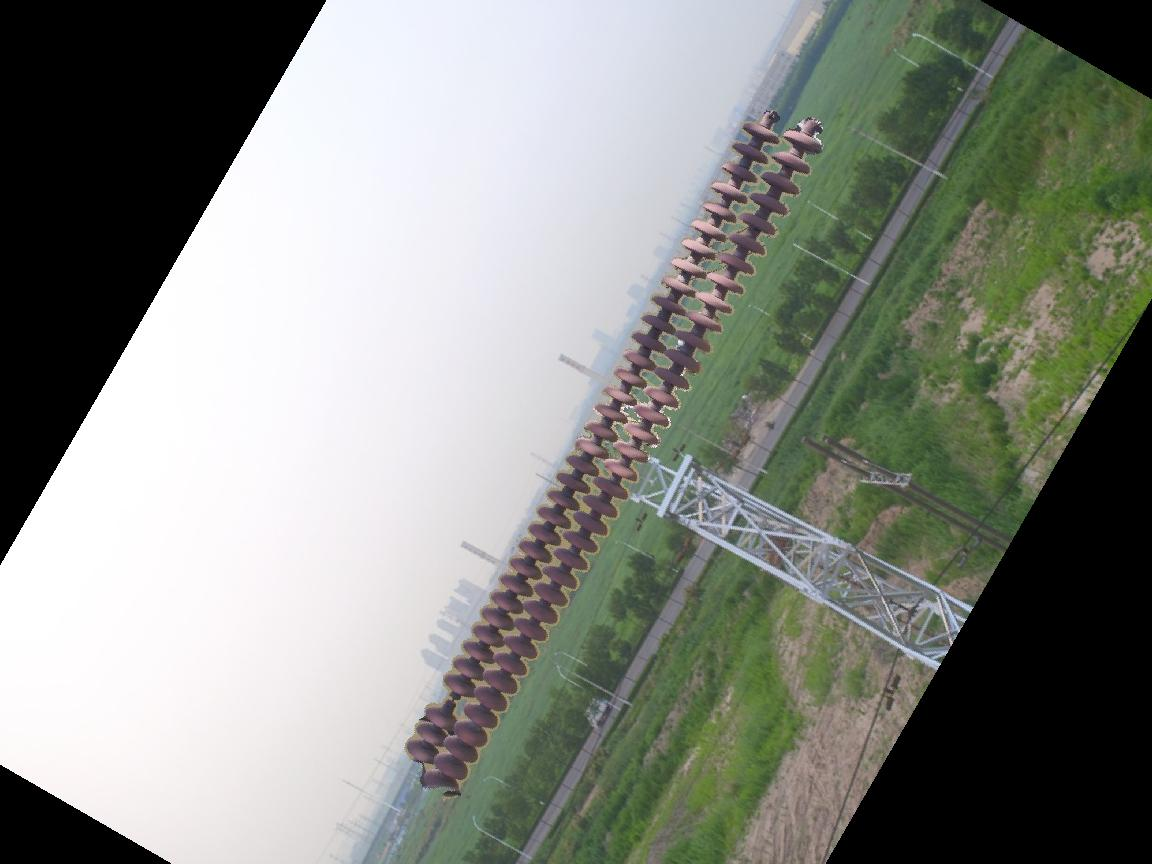insulator: (400, 114, 828, 797)
insulator_stringdrop: (420, 671, 481, 735)
